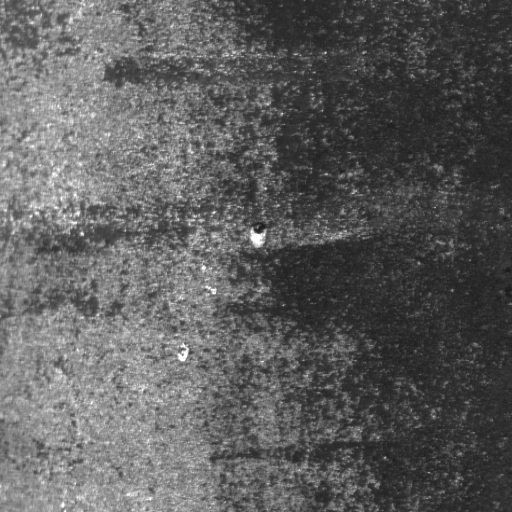qiaopi: (247, 220, 268, 249)
